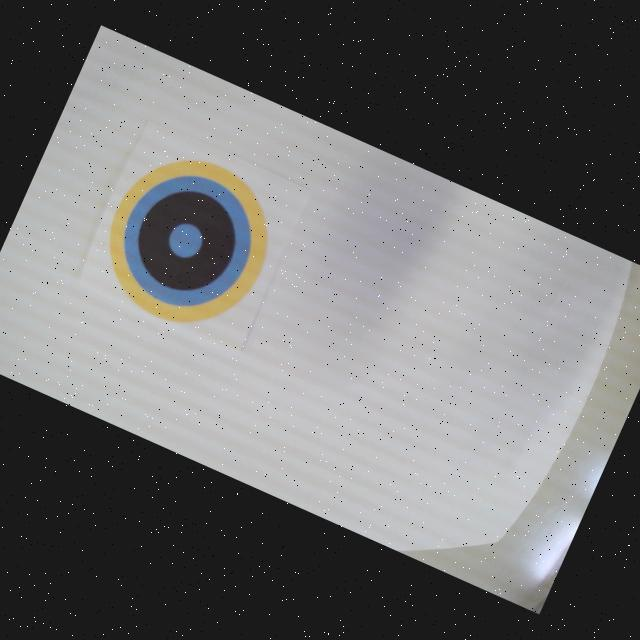COGNITIVE: (83, 134, 294, 349)
